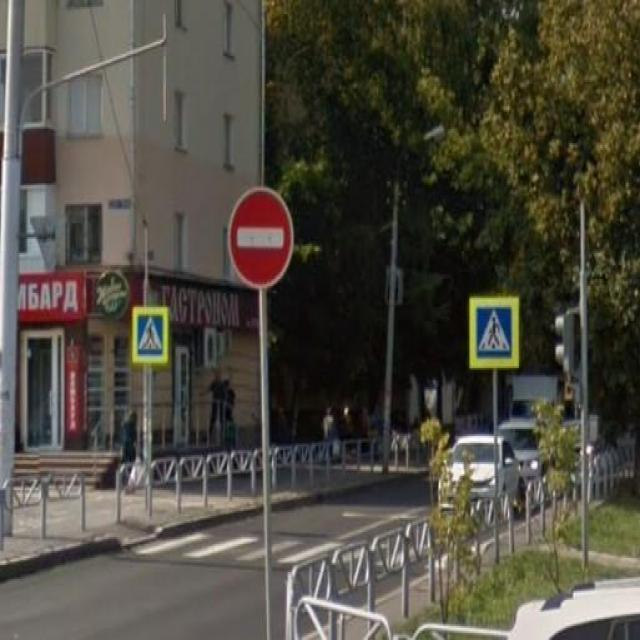traffic_sign: (224, 183, 294, 291), (468, 298, 519, 370), (130, 305, 170, 366)
